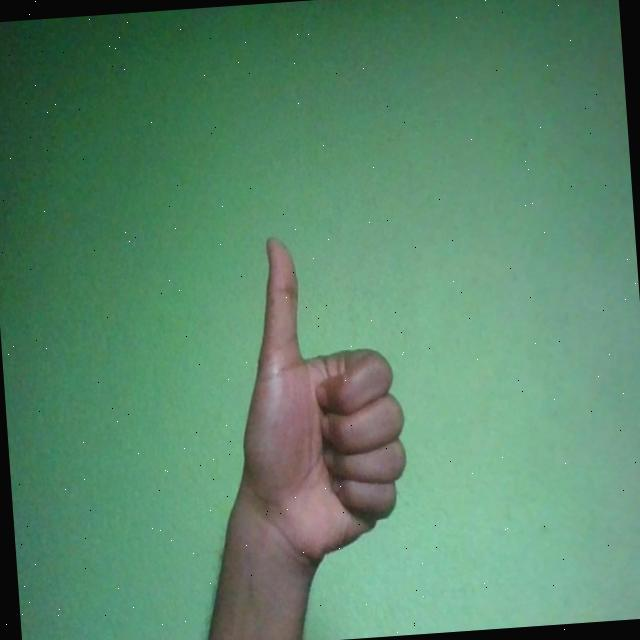Good Job: (228, 229, 414, 572)
